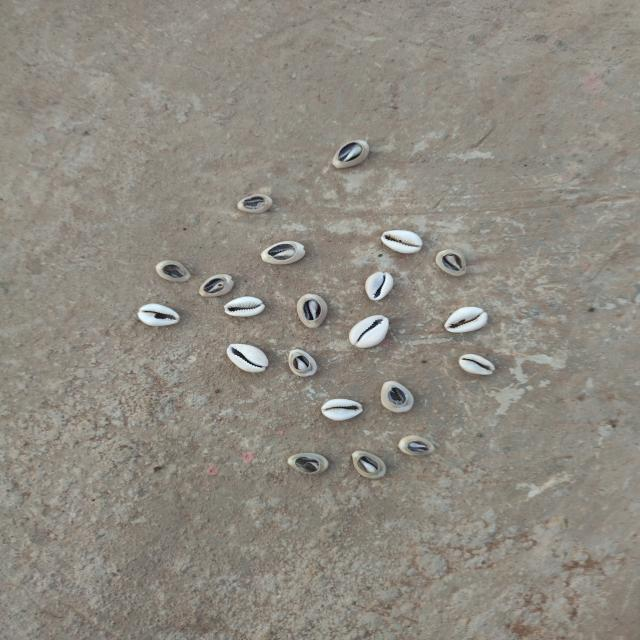facedown: (342, 446, 394, 484), (374, 377, 422, 418), (252, 240, 317, 269), (292, 290, 334, 332), (281, 448, 335, 478), (281, 346, 327, 380), (393, 431, 445, 461), (431, 244, 472, 282), (328, 138, 372, 172), (192, 273, 241, 301), (228, 191, 278, 218), (152, 258, 198, 286)
faceup: (342, 313, 398, 353), (220, 338, 272, 378), (132, 298, 188, 333), (374, 223, 428, 258), (314, 394, 372, 426), (358, 266, 403, 304), (217, 291, 271, 322), (442, 305, 492, 338), (452, 350, 503, 380)
